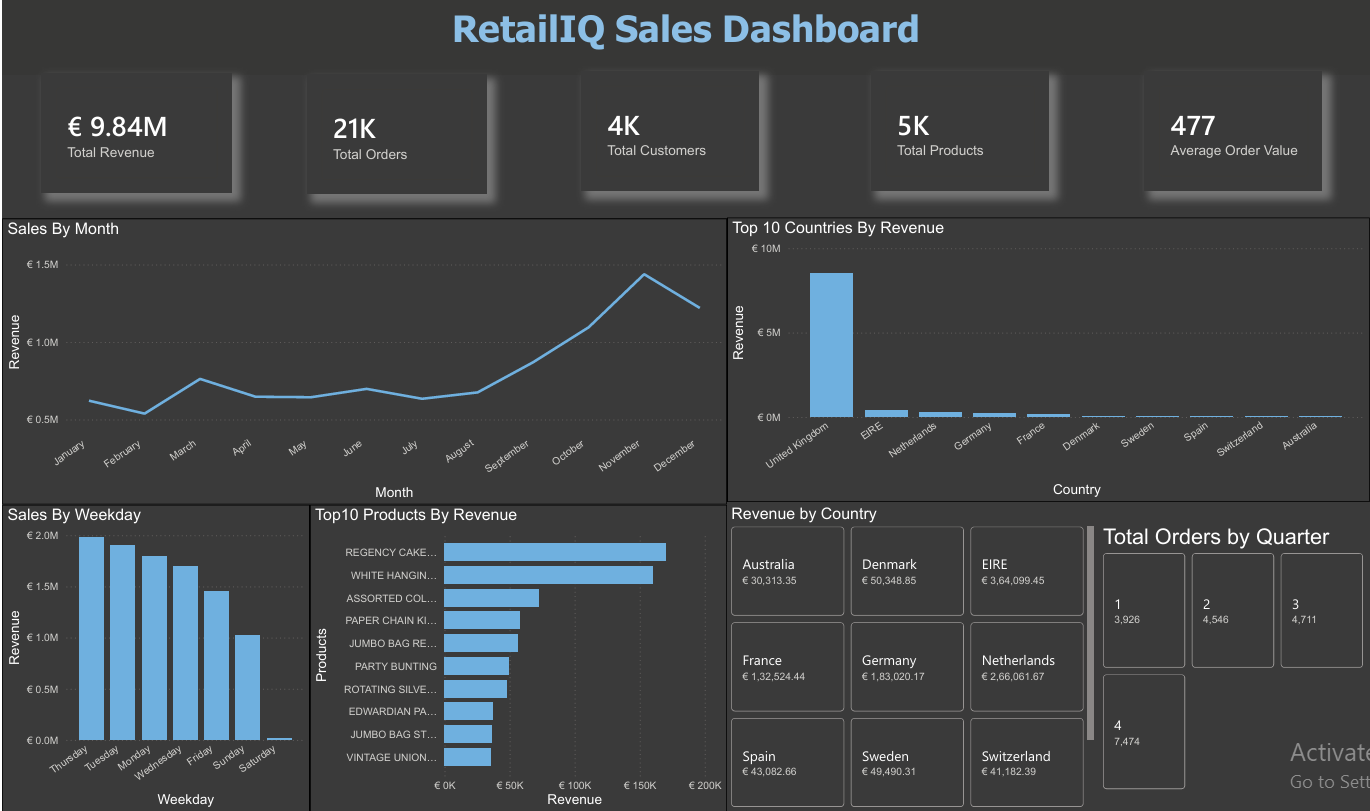

This screenshot's page, from the dashboard's own definition file:
{"tool":"powerbi","page":{"name":"Page 1","canvas":[1600,950],"ordinal":0},"visuals":[{"type":"textbox","box":[0,0,1600,86.7],"z":0},{"type":"cardVisual","fields":{"Data":["online_retail_Sales.Total Orders"]},"box":[357,86.7,210,140],"z":1000},{"type":"cardVisual","fields":{"Data":["online_retail_Sales.Total Customers"]},"box":[677.7,83,208.3,140],"z":2000},{"type":"cardVisual","fields":{"Data":["online_retail_Sales.Total Products"]},"box":[1015,83,208.3,140],"z":3000},{"type":"barChart","title":"Top10 Products By Revenue","fields":{"Category":["online_retail_Sales.Description"],"Y":["Sum(online_retail_Sales.TotalSales)"]},"box":[360,590,488.3,360],"z":4000},{"type":"cardVisual","fields":{"Data":["online_retail_Sales.Total Revenue"]},"box":[45.7,84.7,223.3,140],"z":5000},{"type":"cardVisual","fields":{"Data":["online_retail_Sales.Average Order Value"]},"box":[1330.3,75.3,208.3,140],"z":6000},{"type":"lineChart","title":"Sales By Month","fields":{"Category":["online_retail_Sales.MonthName"],"Y":["Sum(online_retail_Sales.TotalSales)"]},"box":[0,255,848.3,335],"z":7000},{"type":"columnChart","title":"Top 10 Countries By Revenue","fields":{"Category":["online_retail_Sales.Country"],"Y":["Sum(online_retail_Sales.TotalSales)"]},"box":[848.3,254,751.7,333.3],"z":8000},{"type":"columnChart","title":"Sales By Weekday","fields":{"Category":["online_retail_Sales.Weekday"],"Y":["Sum(online_retail_Sales.TotalSales)"]},"box":[0,590,360,360],"z":9000},{"type":"advancedSlicerVisual","title":"Revenue by Country","fields":{"Values":["online_retail_Sales.Country"],"Label":["Sum(online_retail_Sales.TotalSales)"]},"box":[848.3,590,435,360],"z":10000},{"type":"advancedSlicerVisual","fields":{"Values":["online_retail_Sales.Quarter"],"Label":["online_retail_Sales.Total Orders"]},"box":[1283.3,613.3,316.7,315],"z":11000}]}

Visuals, with their boxes in screenshot pixels (x1, y1, x2, y2), scaled from the page's 1600x950 canvas onto the 1370x811 screenshot:
textbox: <region>0, 0, 1369, 74</region>
cardVisual - online_retail_Sales.Total Orders: <region>306, 74, 485, 194</region>
cardVisual - online_retail_Sales.Total Customers: <region>580, 71, 759, 190</region>
cardVisual - online_retail_Sales.Total Products: <region>869, 71, 1047, 190</region>
"Top10 Products By Revenue" barChart: <region>308, 504, 726, 810</region>
cardVisual - online_retail_Sales.Total Revenue: <region>39, 72, 230, 192</region>
cardVisual - online_retail_Sales.Average Order Value: <region>1139, 64, 1317, 184</region>
"Sales By Month" lineChart: <region>0, 218, 726, 504</region>
"Top 10 Countries By Revenue" columnChart: <region>726, 217, 1369, 501</region>
"Sales By Weekday" columnChart: <region>0, 504, 308, 810</region>
"Revenue by Country" advancedSlicerVisual: <region>726, 504, 1099, 810</region>
advancedSlicerVisual - online_retail_Sales.Quarter x online_retail_Sales.Total Orders: <region>1099, 524, 1369, 792</region>
